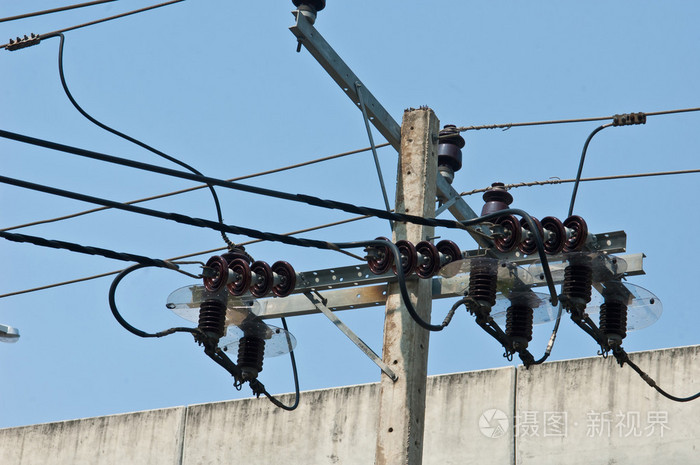insulator: (201, 252, 296, 298), (495, 213, 588, 257), (365, 236, 460, 278)
